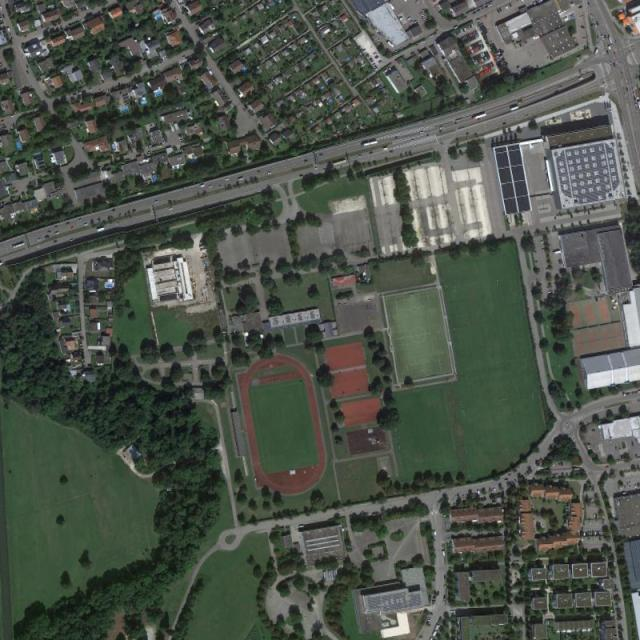vehicle: (333, 158, 347, 166), (472, 113, 487, 120), (12, 242, 26, 249), (362, 140, 378, 146), (97, 226, 106, 231), (510, 106, 519, 111)
